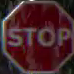Stop: (0, 1, 73, 73)
